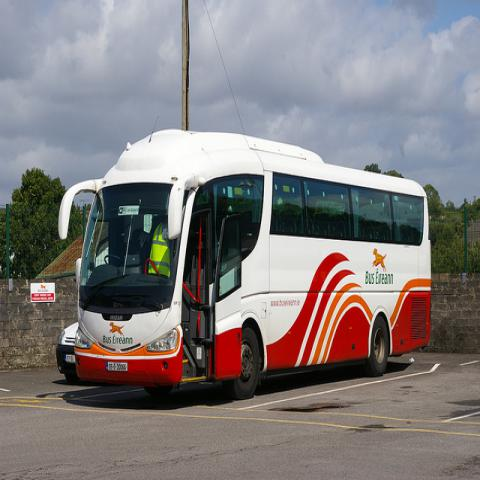bus: (58, 125, 434, 400)
car: (56, 322, 79, 385)
